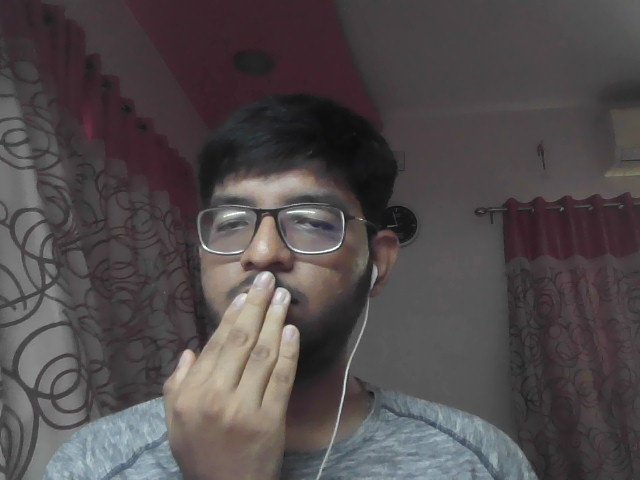આભાર: (155, 251, 311, 475)
